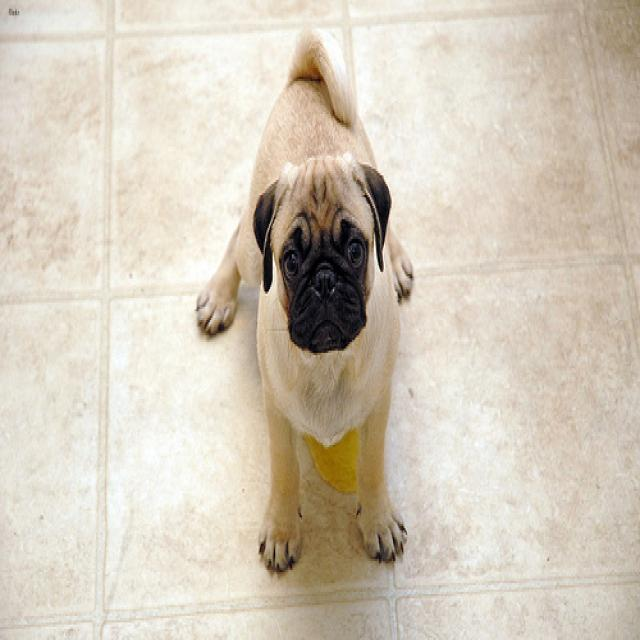dog-pug: (191, 15, 425, 587)
